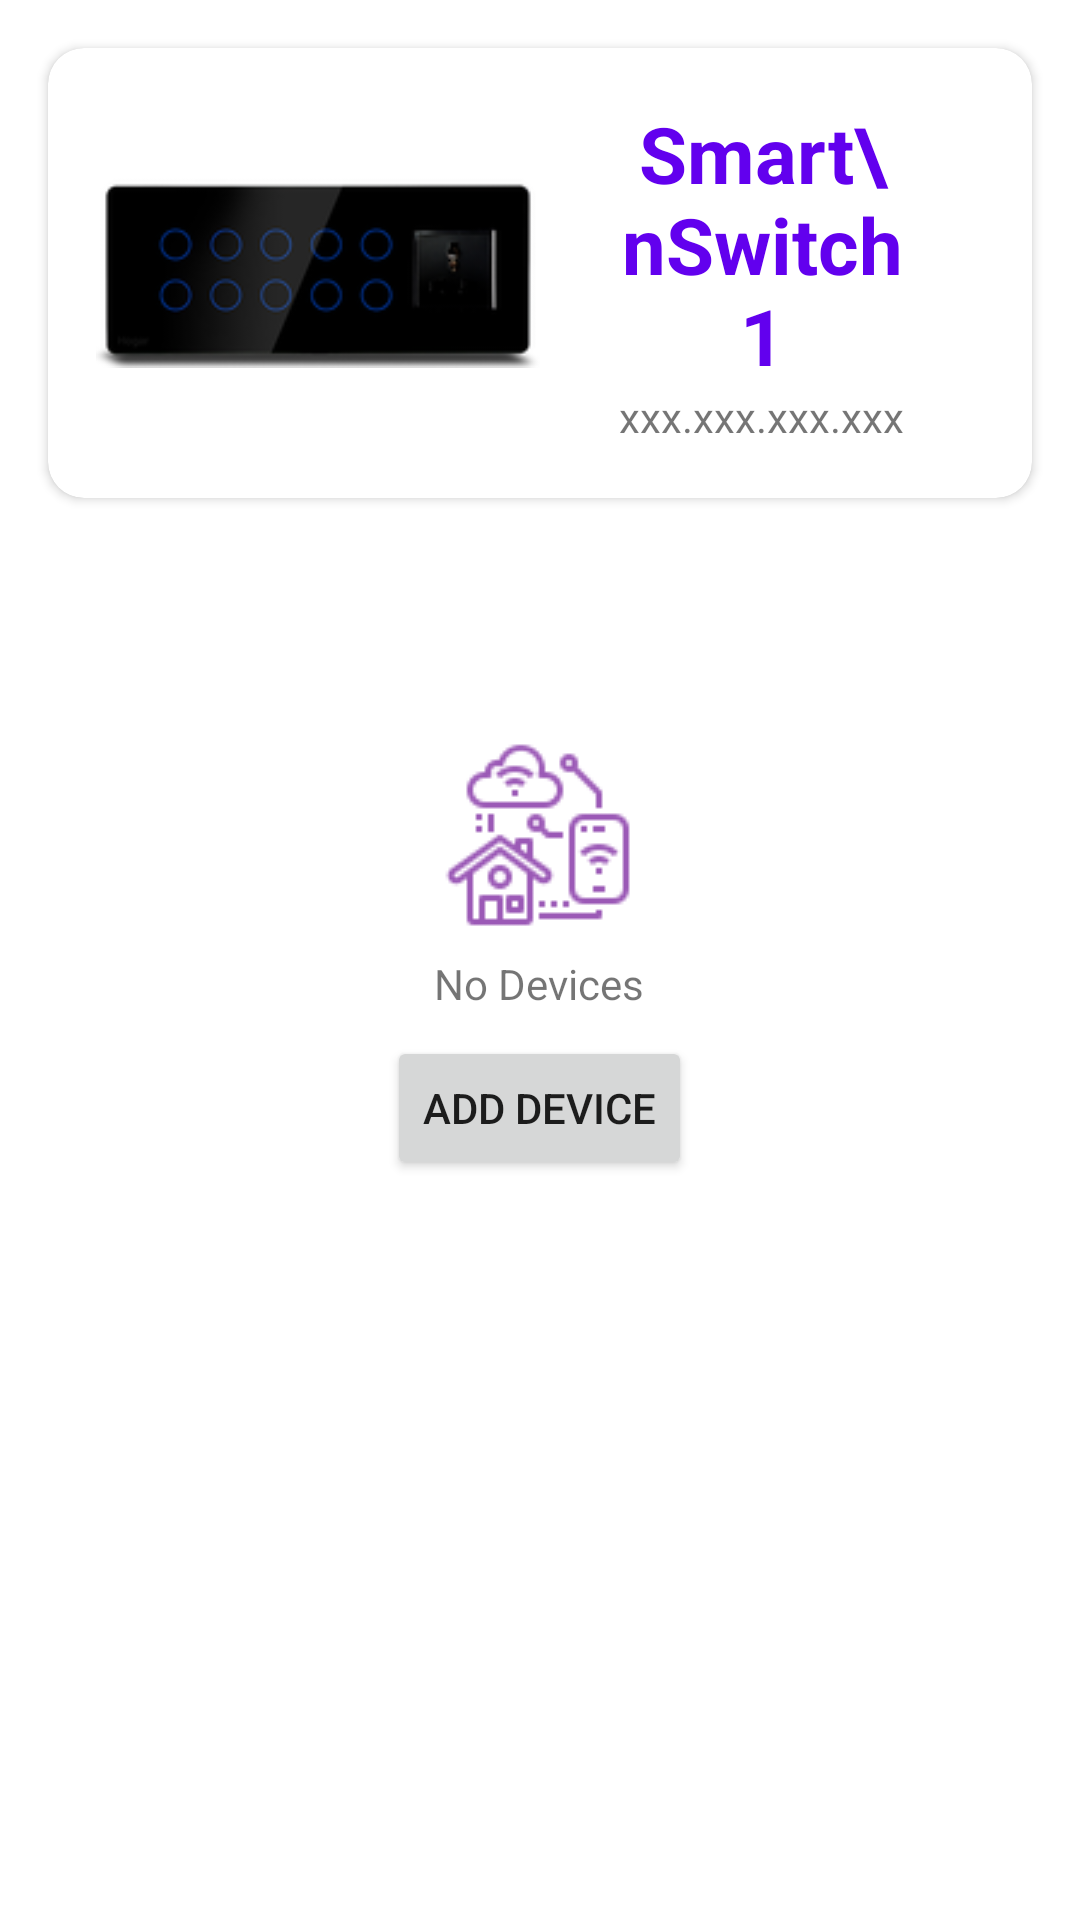

Icon click points for this 1080×1920 phone screenshot, format (x=x, y=y):
smart home: (x=538, y=835)
